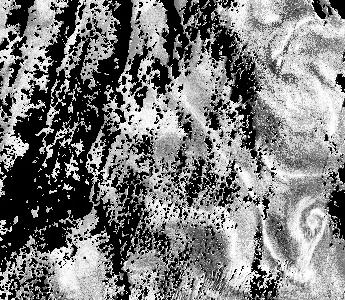CE: (290, 199, 327, 245)
